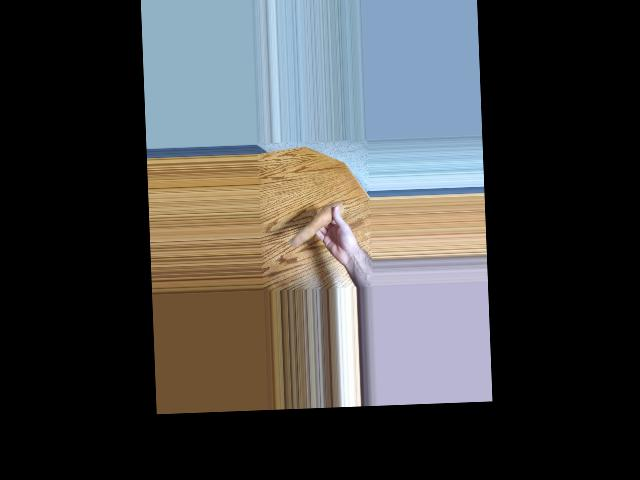sweet_potato: (288, 204, 345, 248)
